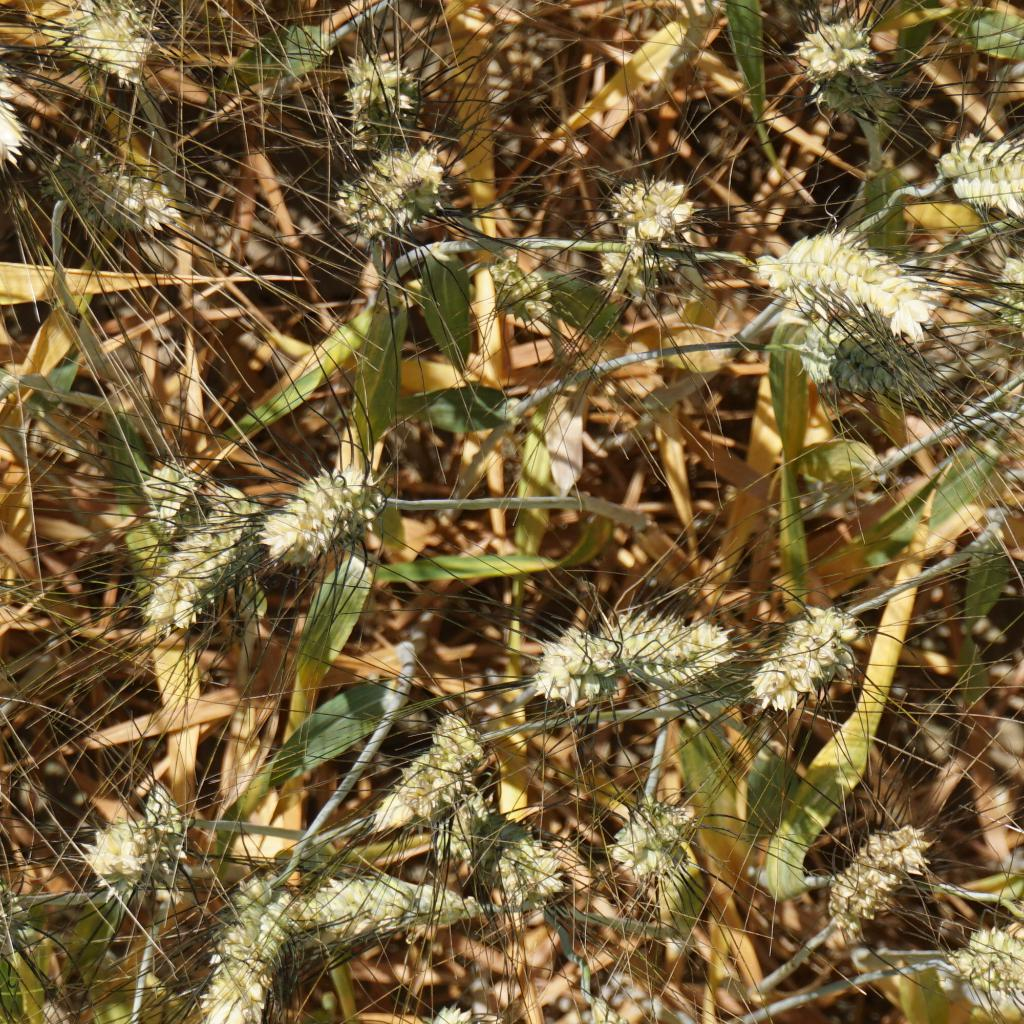0-0: (766, 209, 943, 331), (426, 788, 587, 916), (146, 476, 271, 639), (282, 851, 476, 941), (45, 135, 186, 256), (367, 709, 495, 833), (201, 870, 300, 1024), (314, 140, 457, 245), (256, 450, 388, 563), (781, 294, 918, 397), (60, 809, 201, 904), (610, 591, 742, 689), (338, 42, 438, 159), (44, 0, 162, 95), (604, 169, 709, 275), (751, 593, 849, 698), (830, 811, 915, 922), (115, 781, 196, 890), (792, 19, 879, 107), (614, 804, 702, 888), (952, 922, 1024, 1024), (523, 623, 608, 704), (586, 237, 682, 306), (952, 115, 1024, 205), (483, 252, 556, 329), (134, 454, 203, 529), (0, 0, 24, 164), (990, 237, 1024, 327), (401, 994, 497, 1024), (583, 1007, 645, 1024), (0, 550, 13, 630)
